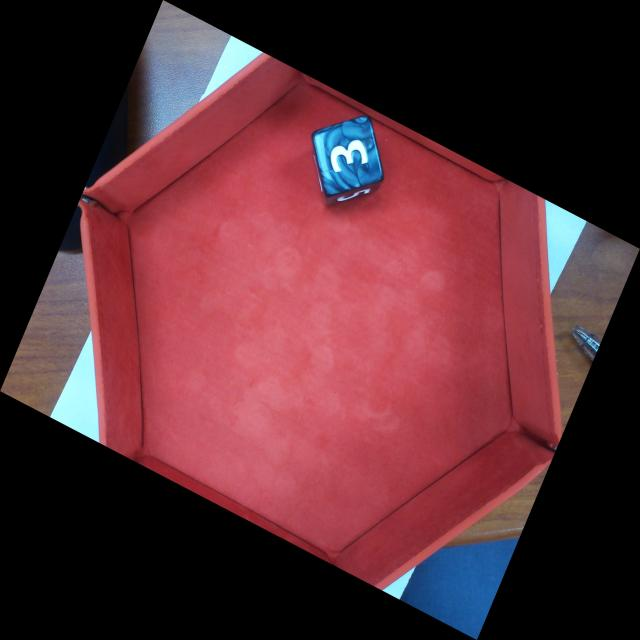dice: (317, 117, 383, 197)
